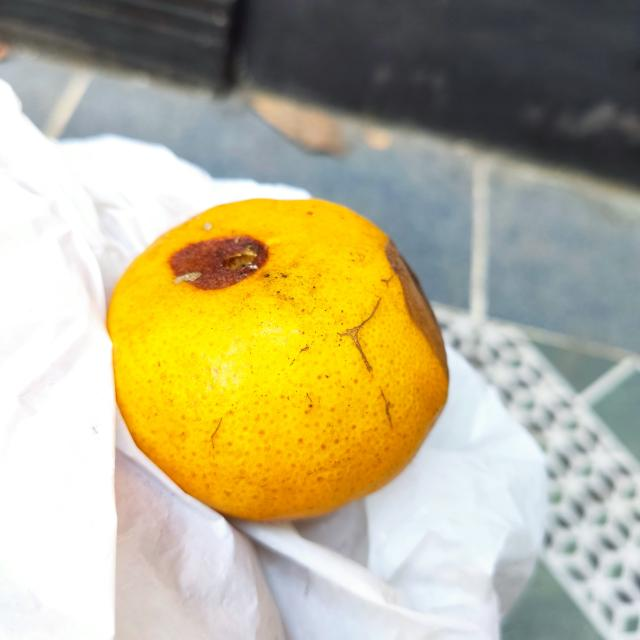orange: (101, 196, 448, 526)
